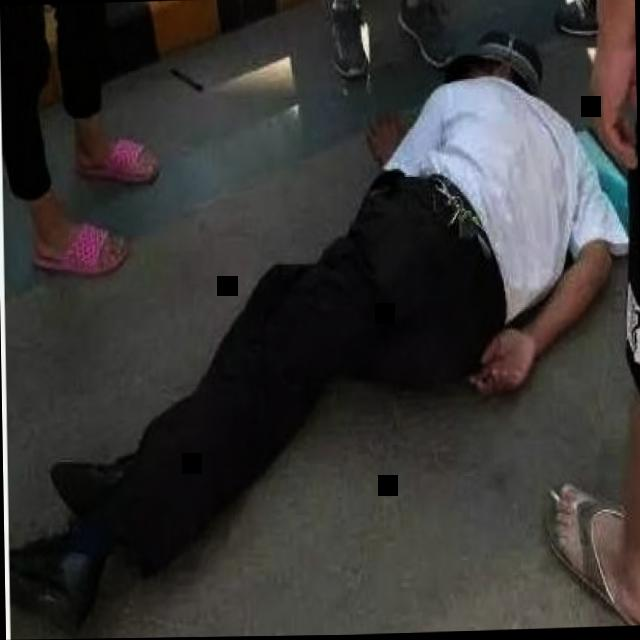Fall-Detected: (32, 2, 620, 632)
